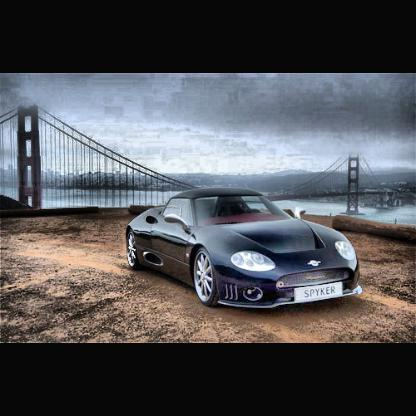Spyker C8 Convertible 2009: (125, 187, 367, 313)
